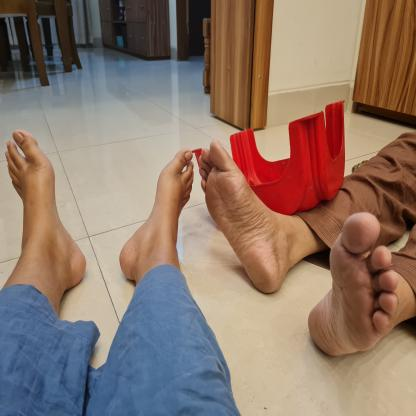leg: (197, 136, 326, 298), (304, 205, 416, 364), (0, 125, 91, 320), (115, 145, 196, 282)
